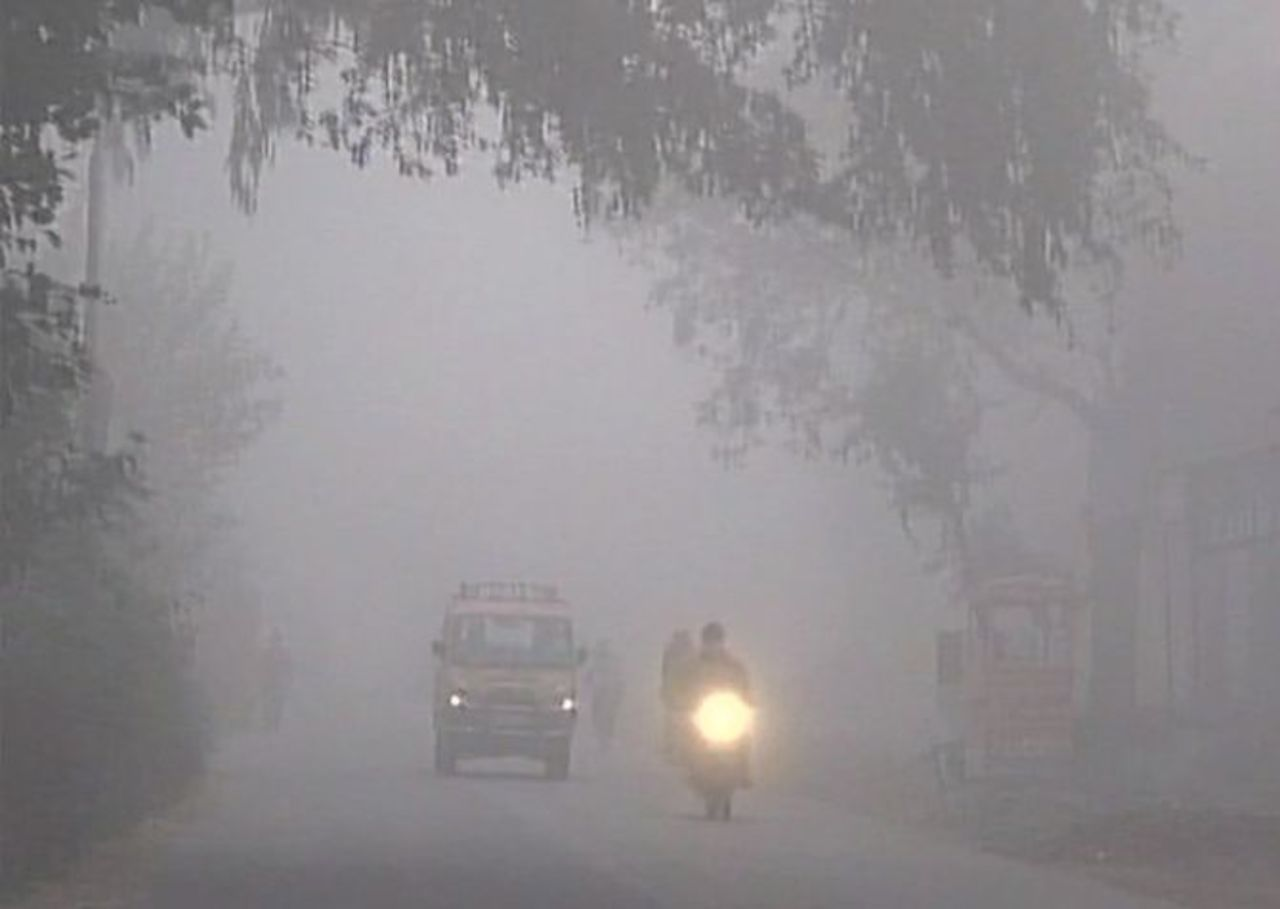car: (428, 585, 586, 778)
motorcycle: (673, 696, 756, 816)
person: (655, 620, 758, 818), (256, 627, 290, 734)
